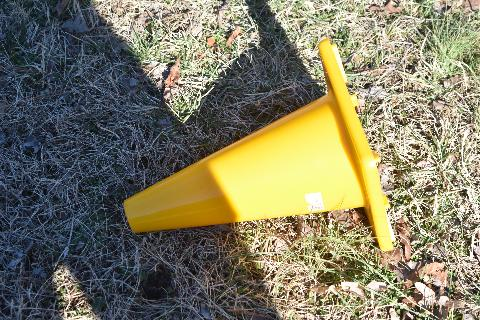cone: (123, 38, 397, 252)
